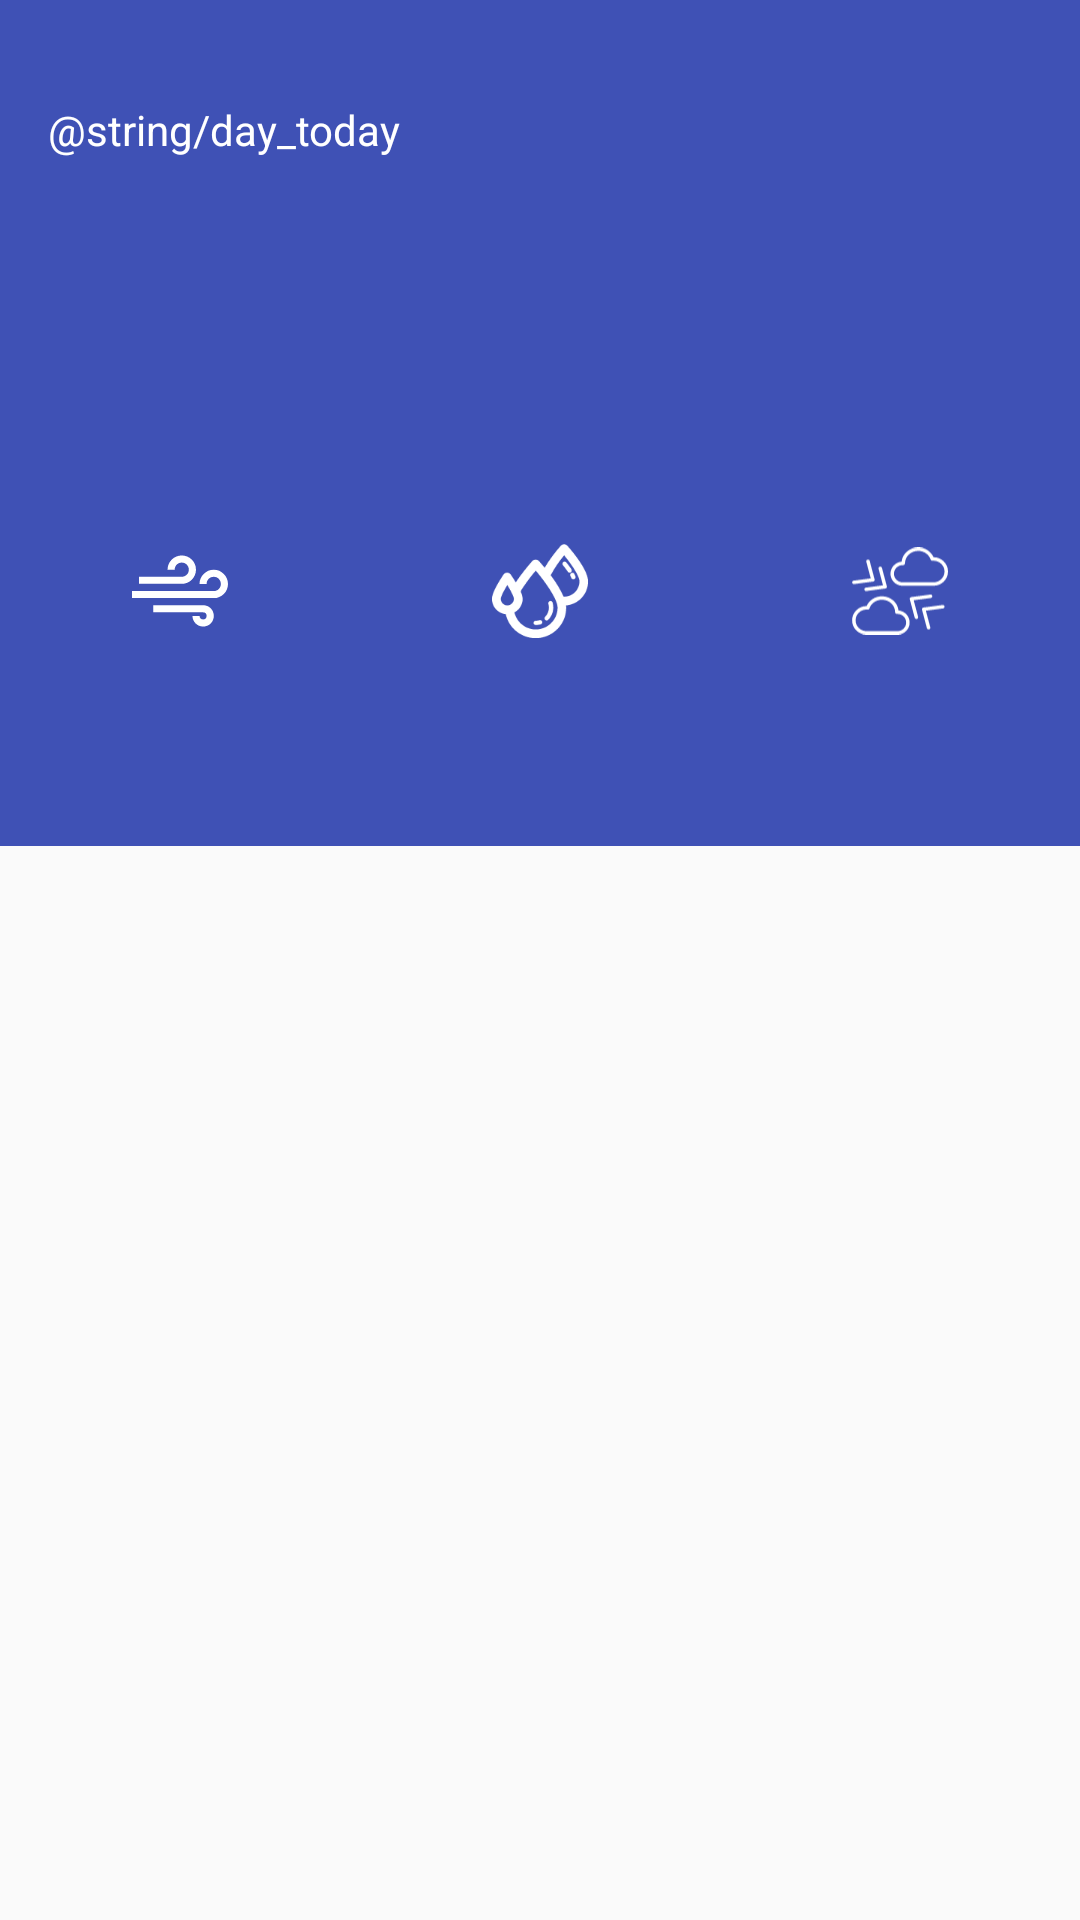

Named icons in this screenshot (1080px×1920px) and their centers, [x,y]:
art wind: [180,591]
humidity: [540,591]
pressure: [900,591]
